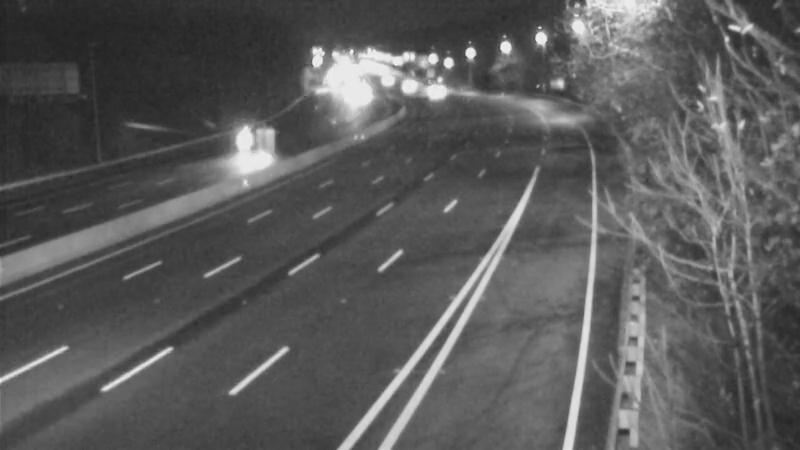vehicle: (411, 68, 461, 118), (236, 112, 286, 162)
